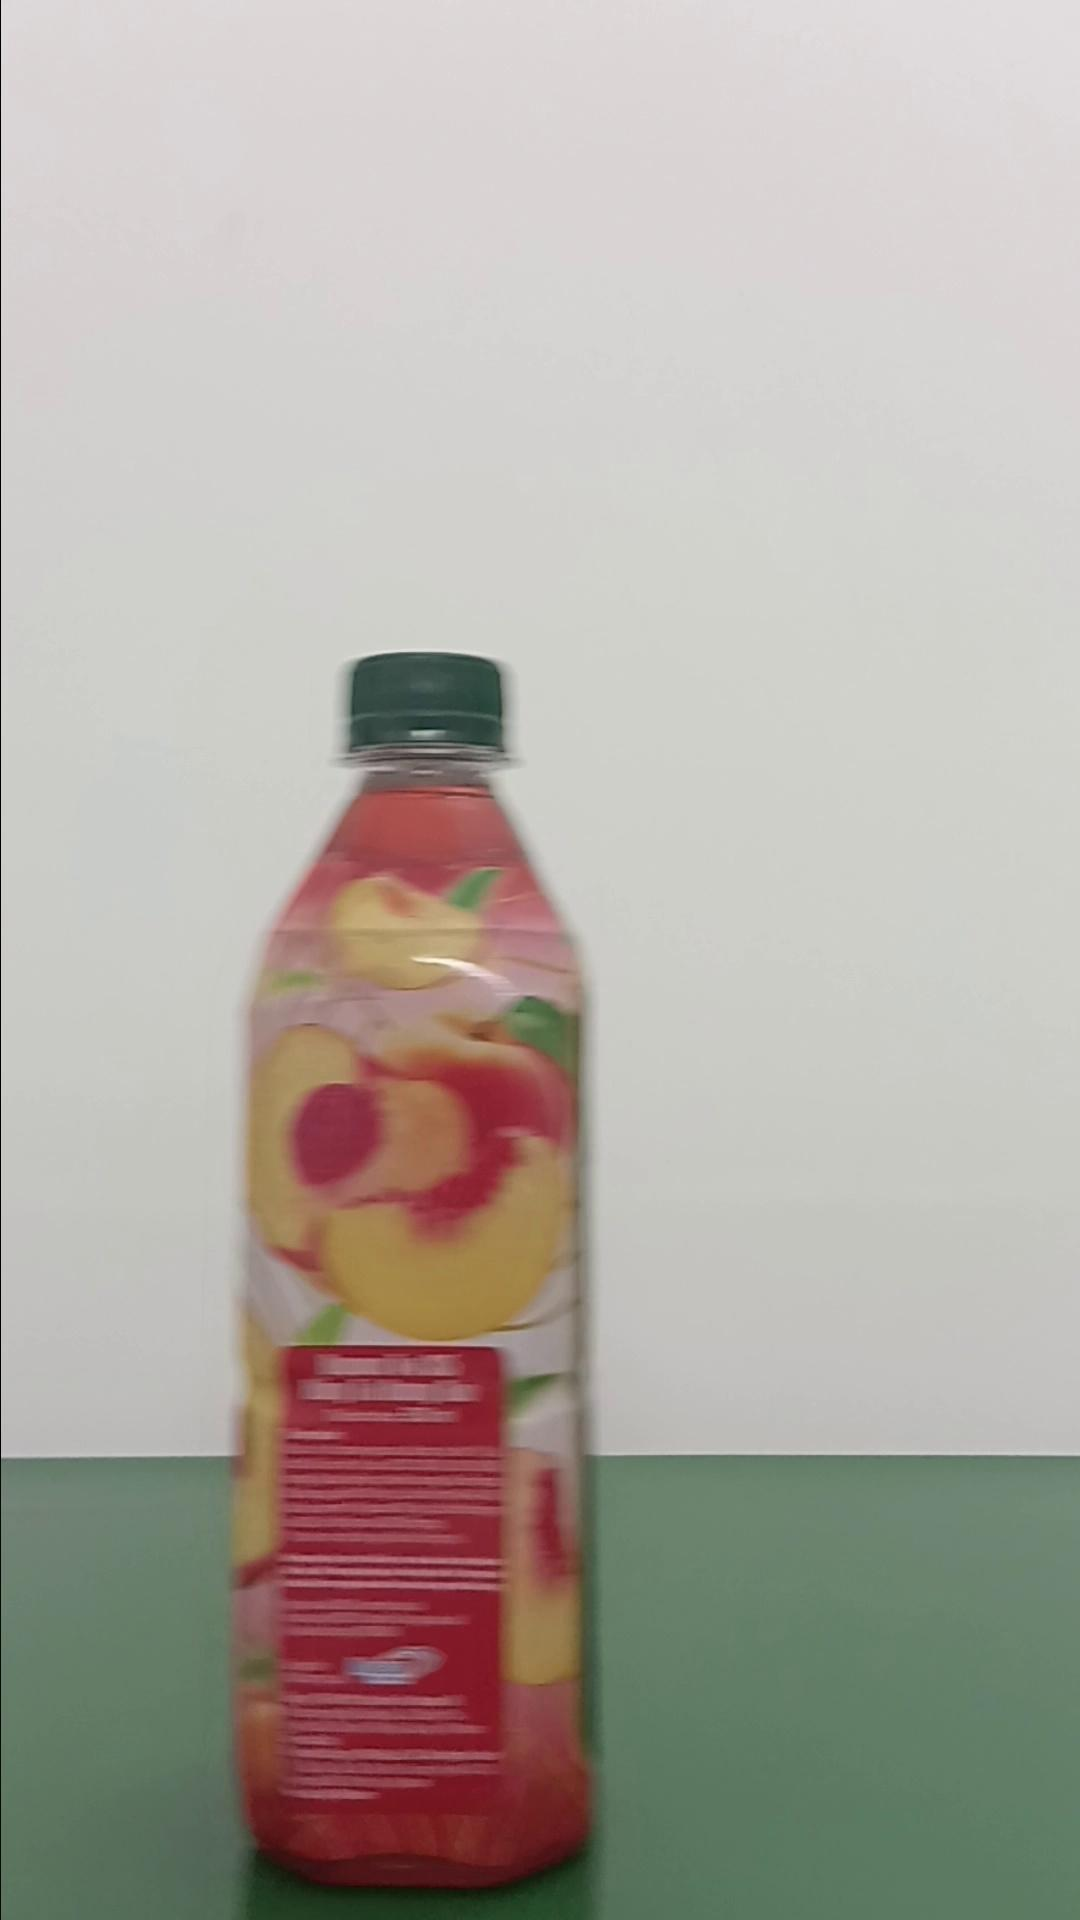khong loi: (225, 647, 596, 1887)
